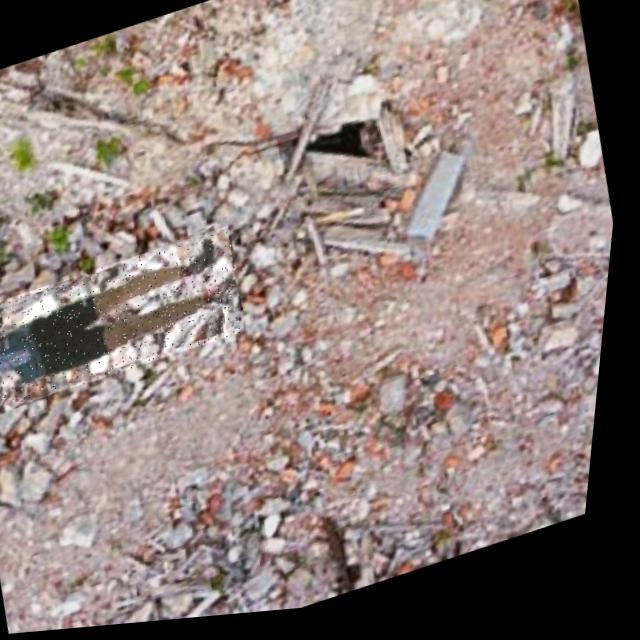Person in Rubble: (0, 227, 259, 419)
